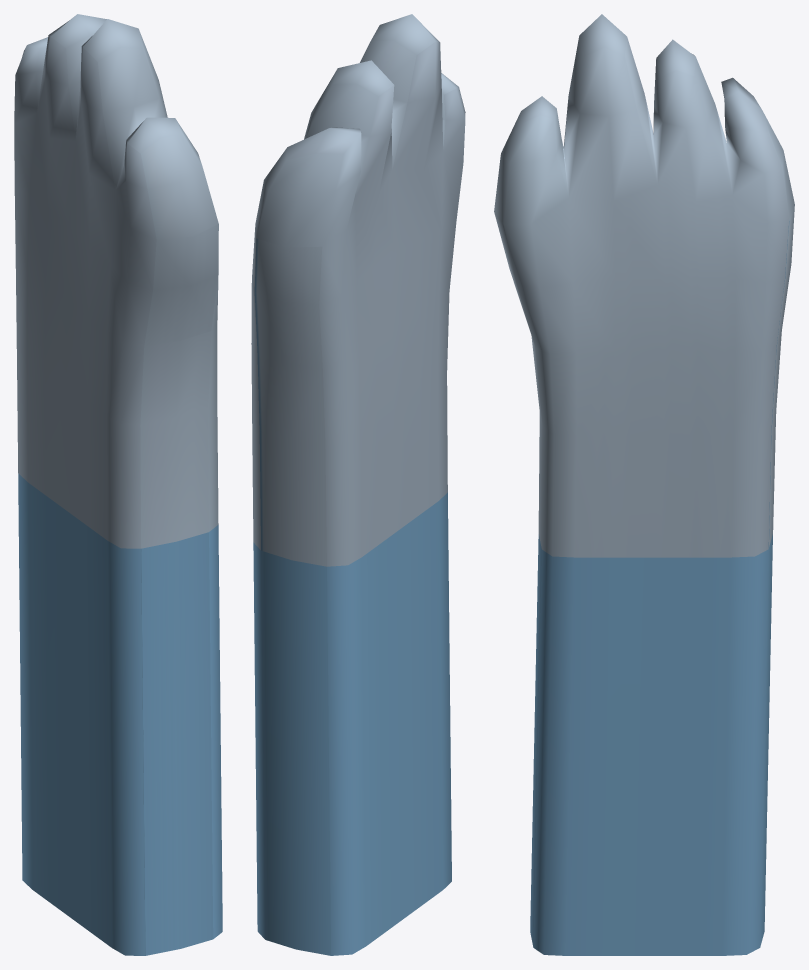
Rendered from Modelo.obj.
3 renders of one model, left to right at view 1: azimuth 30°, elevation 25°; view 2: azimuth 150°, elevation 25°; view 3: azimuth 270°, elevation 25°, orthographic. The views are drawn at different scales.
Visible parts, largest first — view 1: Cube; view 2: Cube; view 3: Cube.
Boxes of the visible parts, x1,y1,x2,y2 form: Cube: (14,14,222,955); Cube: (251,14,465,955); Cube: (494,14,794,955).
Size of the model in its own units: 0.95 by 7.32 by 2.22.
